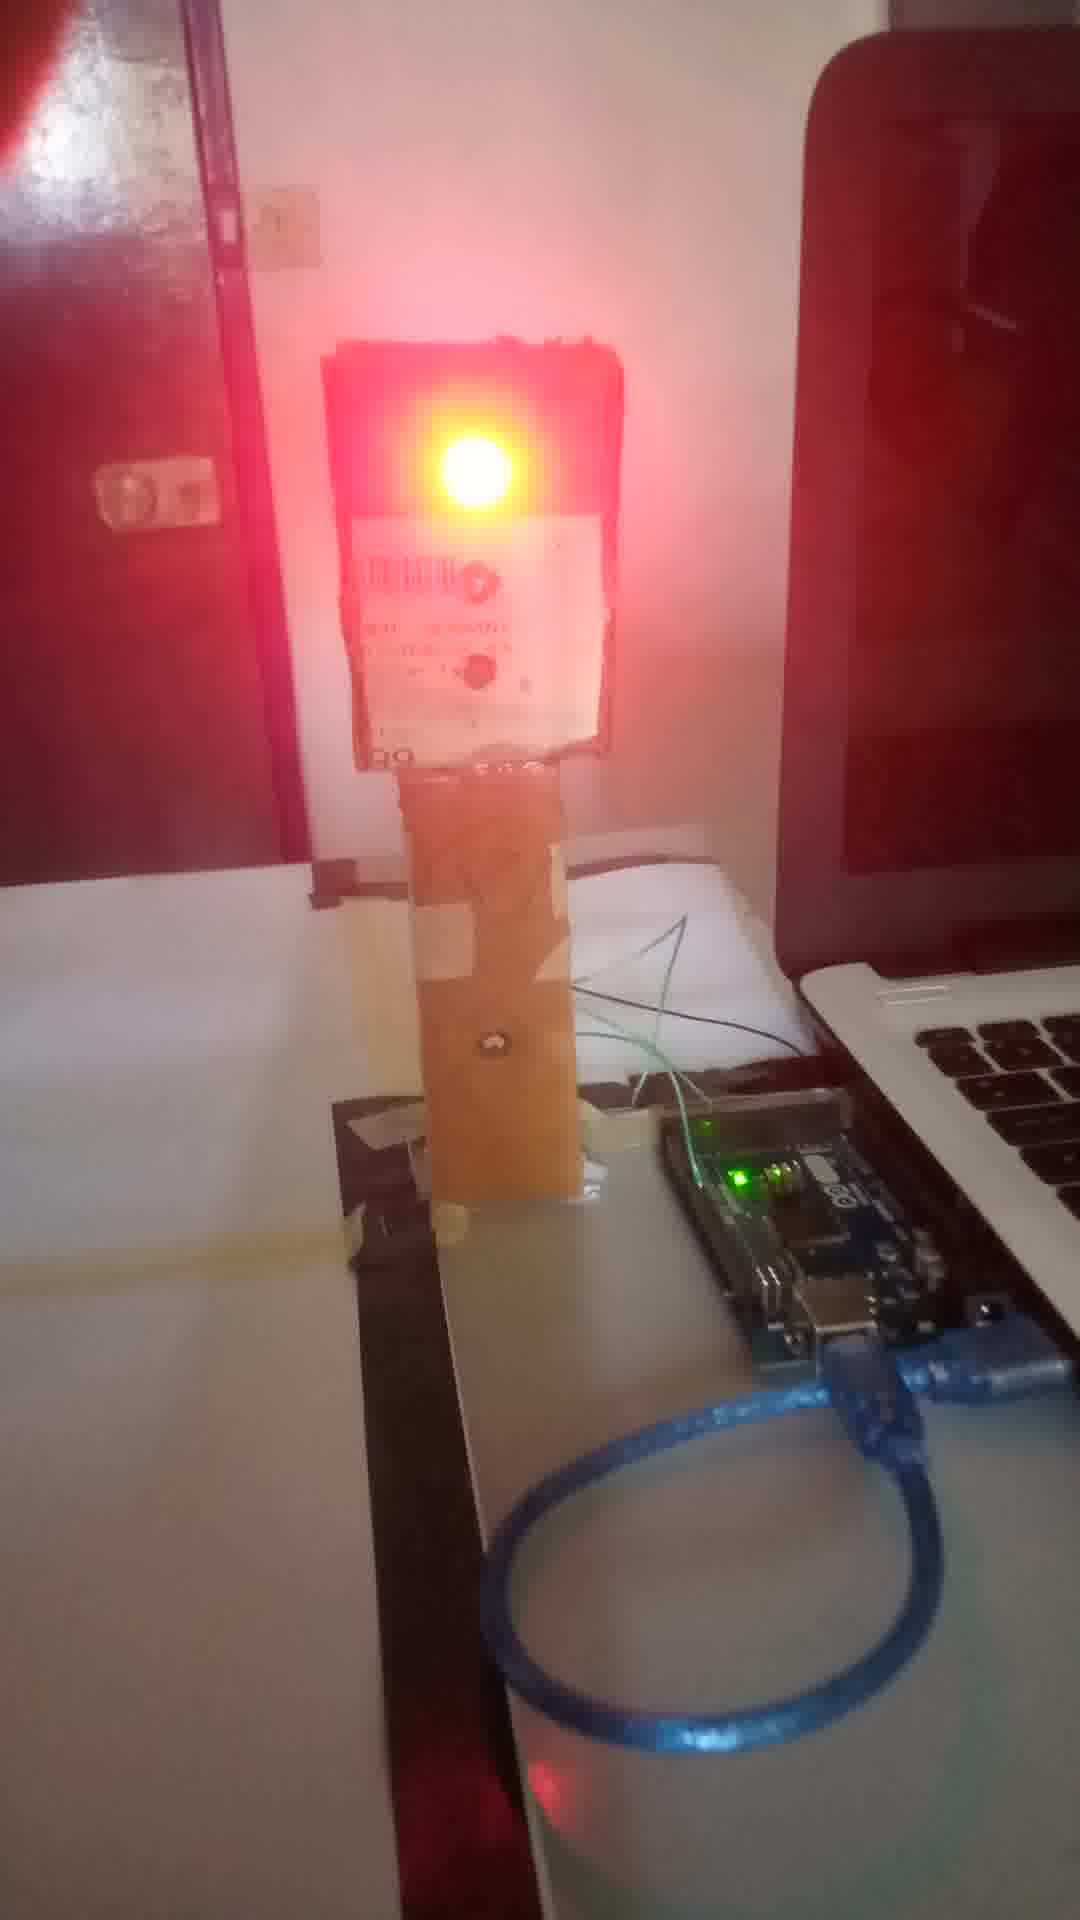red: (334, 338, 615, 766)
